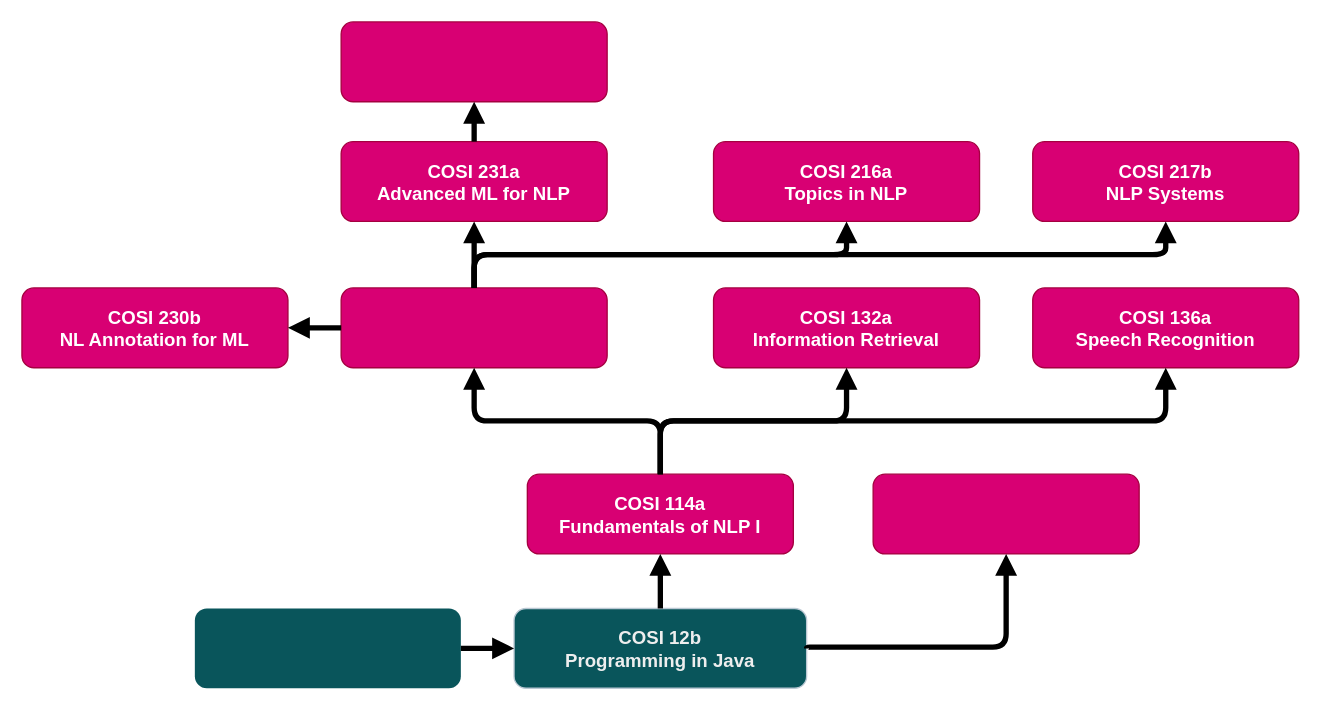
Some shapes in this 1321 by 710 pixel diagram are drawn without their labels. Each missing label, with the centre of its shape:
"COSI 10a Problem Solving in Python" belongs at [327,648].
"COSI 115b Fundamentals of NLP II" belongs at [473,327].
"COSI 135b Computational Semantics" belongs at [1005,513].
"COSI 232b Information Extraction" belongs at [473,61].
